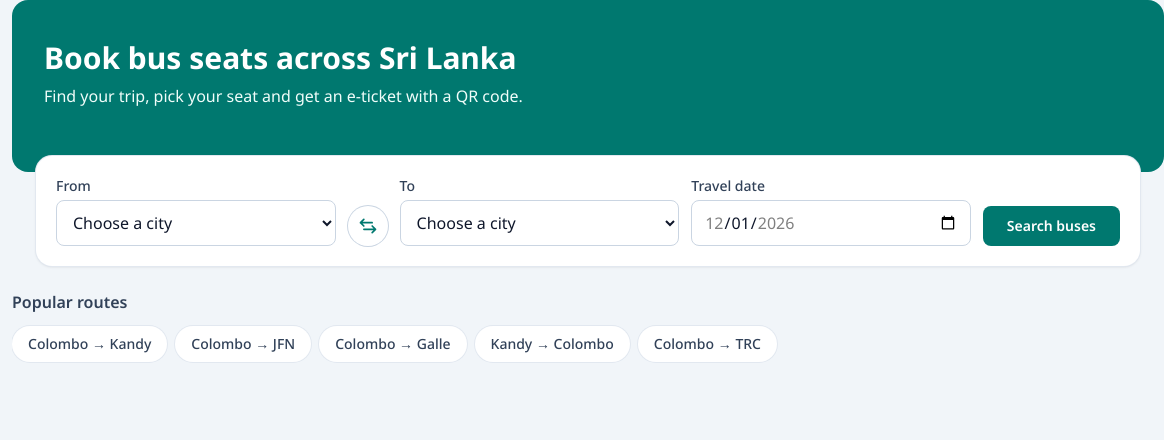
Test: HomePage search › asks for both cities, and different ones
The image size is (1164, 440).
Click the button "Search buses". click: click(1051, 226)
box: left=983, top=206, right=1120, bottom=246
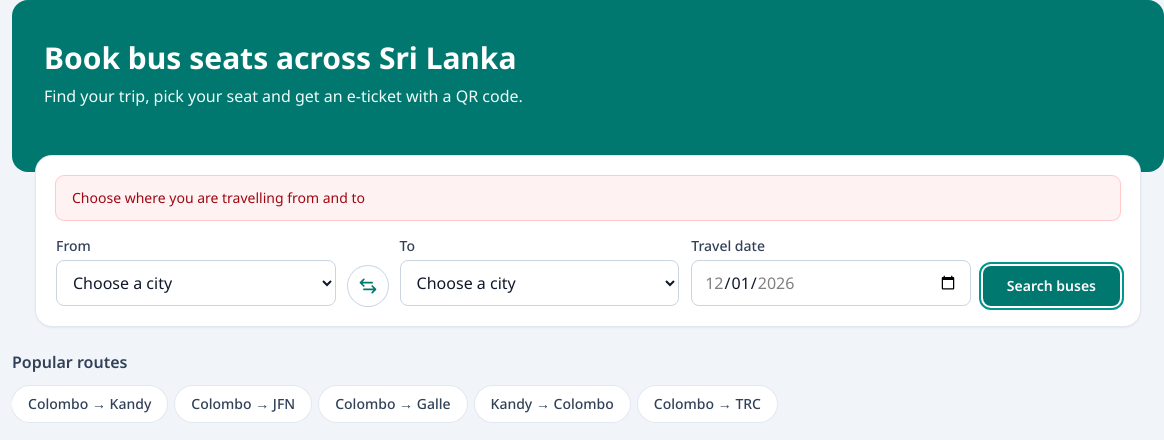
Expected: the message reads "Choose where you are travelling from and to", left=72, top=188, right=365, bottom=207
Select "Kandy" in the dropdown labelled "From". click: (196, 283)
box: left=56, top=260, right=336, bottom=306
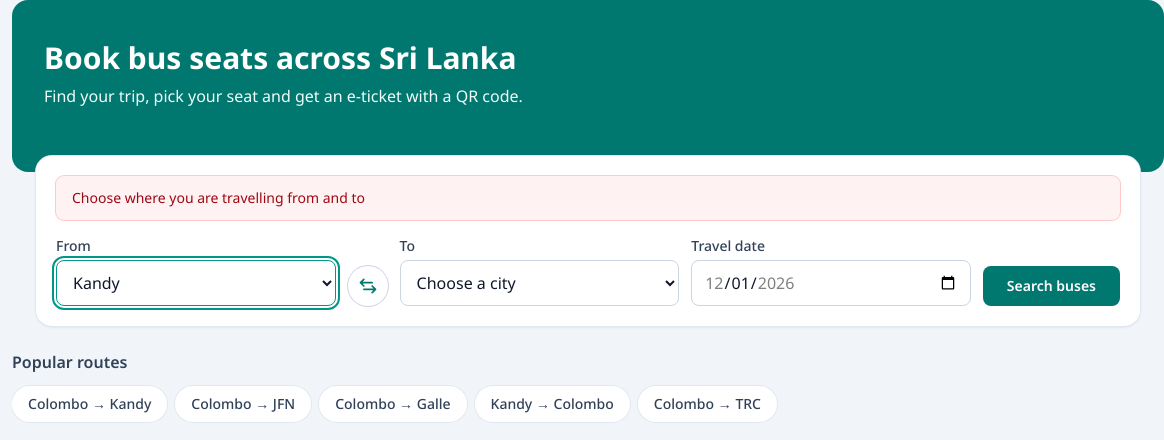
Select "Kandy" in the dropdown labelled "To". click: (539, 283)
box: left=400, top=260, right=679, bottom=306
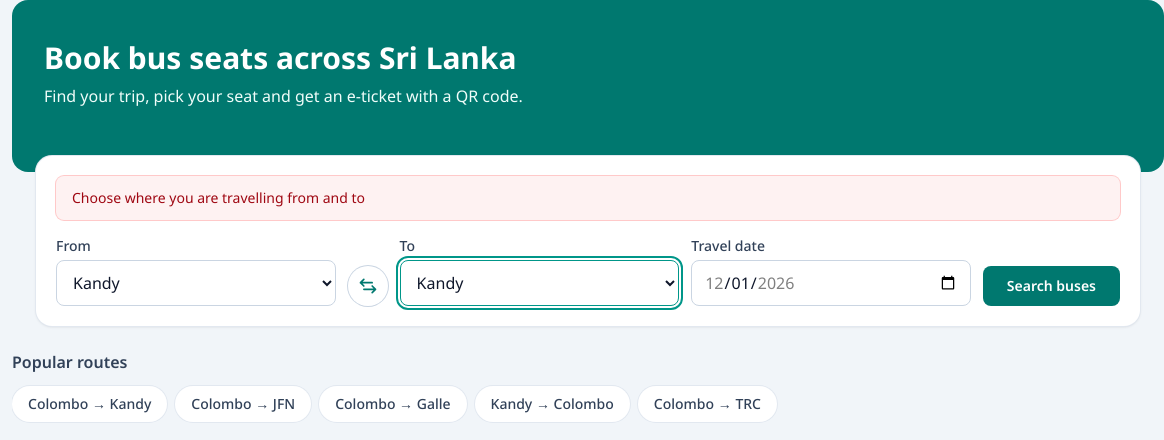
Click the button "Search buses". click: click(1051, 286)
box: left=983, top=266, right=1120, bottom=306
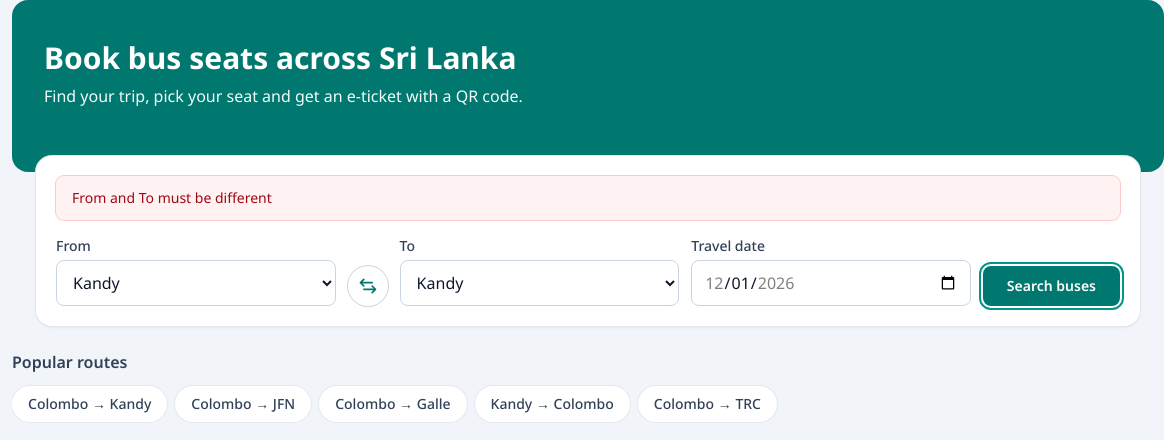
Expected: the message reads "From and To must be different", left=72, top=188, right=272, bottom=207
